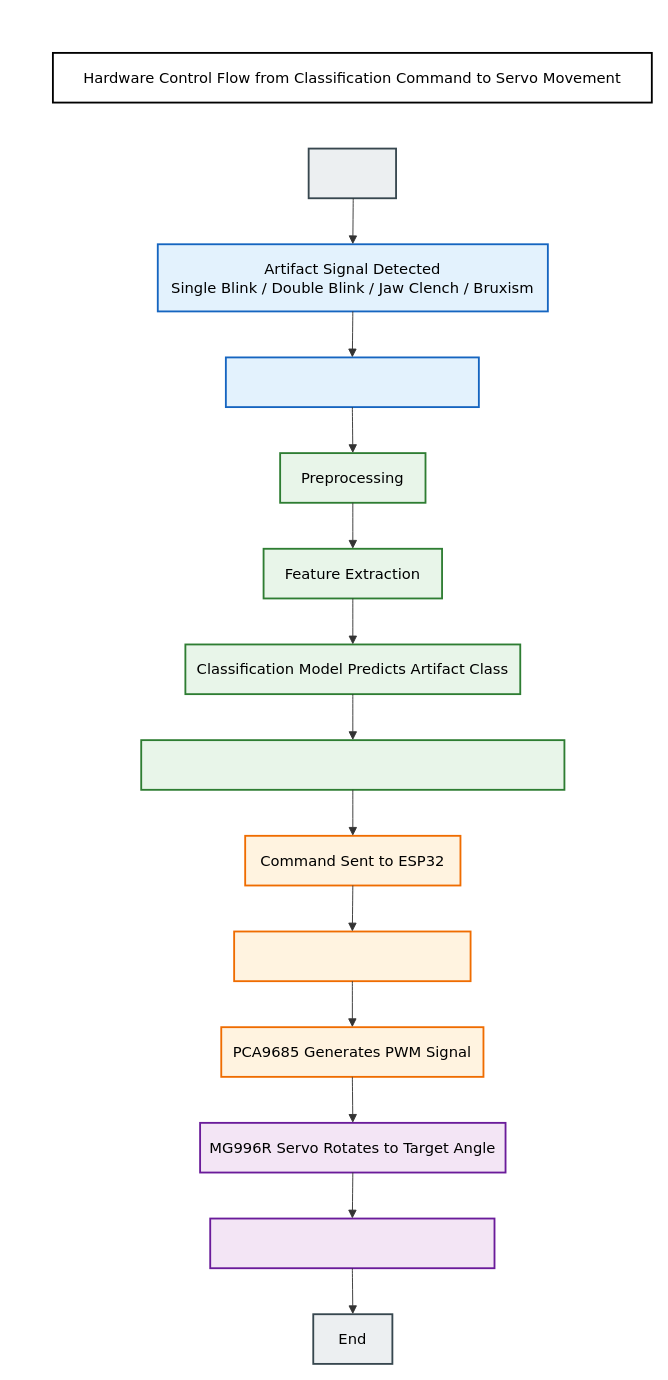
Some shapes in this 668 by 1380 pixel diagram are drawn without their labels. The centre of each missing label's shape, as x and y in pixels:
ESP32 Sends I2C Instruction: the point at 352,956
Finger / Wrist Movement Produced: the point at 352,1243
Raspberry Pi 5 Receives Signal: the point at 351,382
Start: the point at 352,173
User-Customizable Mapping Converts Class to Command: the point at 352,764
